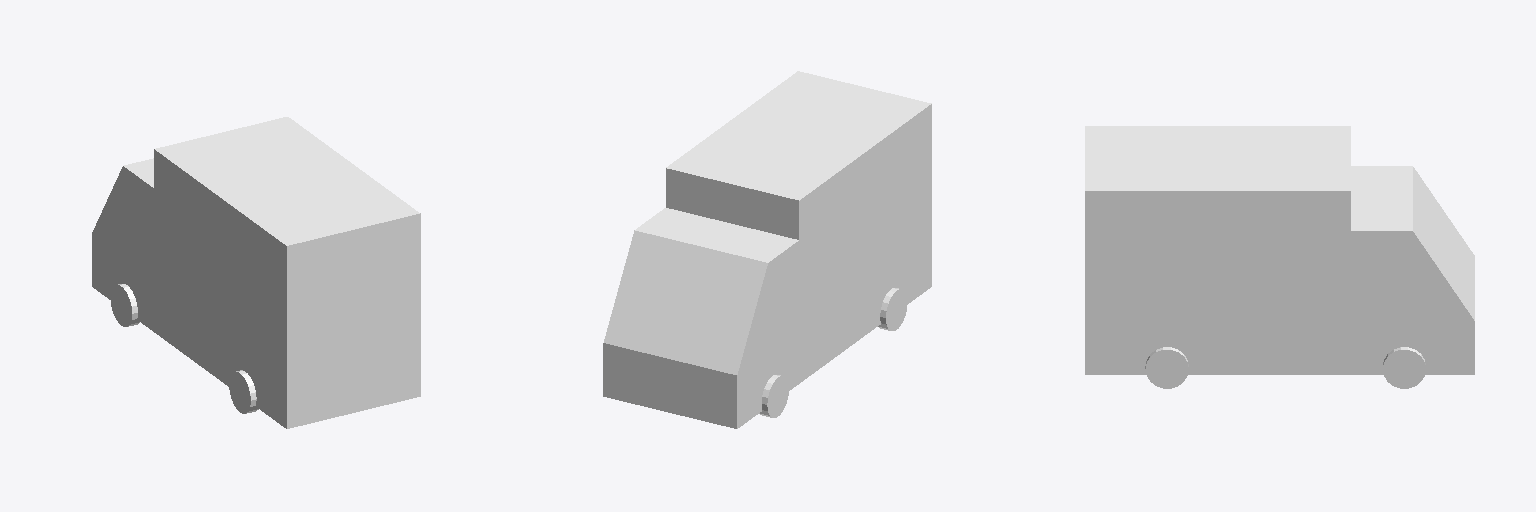
File: truck.obj
3 views of the same model, side by side, from view 1: azimuth 30°, elevation 25°; view 2: azimuth 150°, elevation 25°; view 3: azimuth 270°, elevation 25° (orthographic).
Parts seen in each view (by area): view 1: Car_09 메시; view 2: Car_09 메시; view 3: Car_09 메시.
Boxes of the visible parts, x1=… form: Car_09 메시: x1=92, y1=117, x2=420, y2=428; Car_09 메시: x1=603, y1=71, x2=931, y2=428; Car_09 메시: x1=1085, y1=126, x2=1474, y2=388.
Bounding box in the file's own units: 3.75 × 4.82 × 8.73.